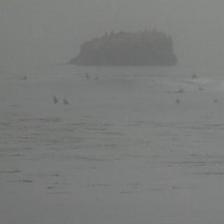surfer: (52, 96, 60, 105), (190, 73, 200, 80), (62, 99, 71, 106), (174, 89, 184, 95), (21, 76, 30, 82), (197, 86, 206, 92), (174, 99, 182, 105), (84, 72, 90, 80), (0, 101, 2, 108)
